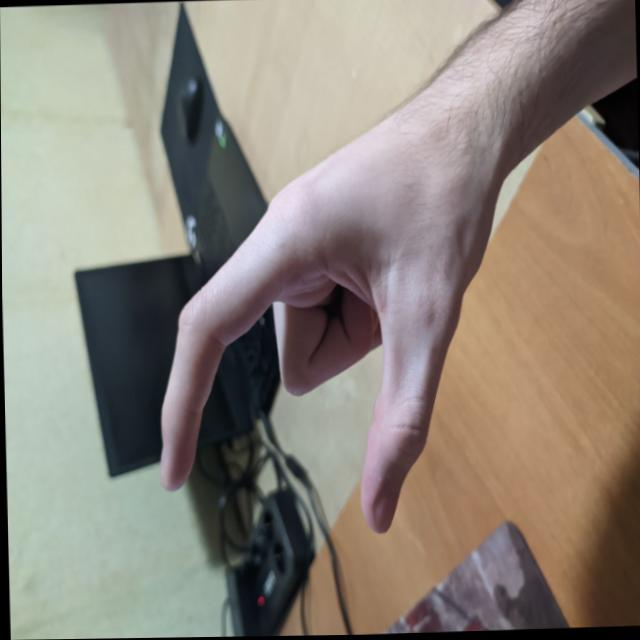uh: (149, 66, 500, 522)
